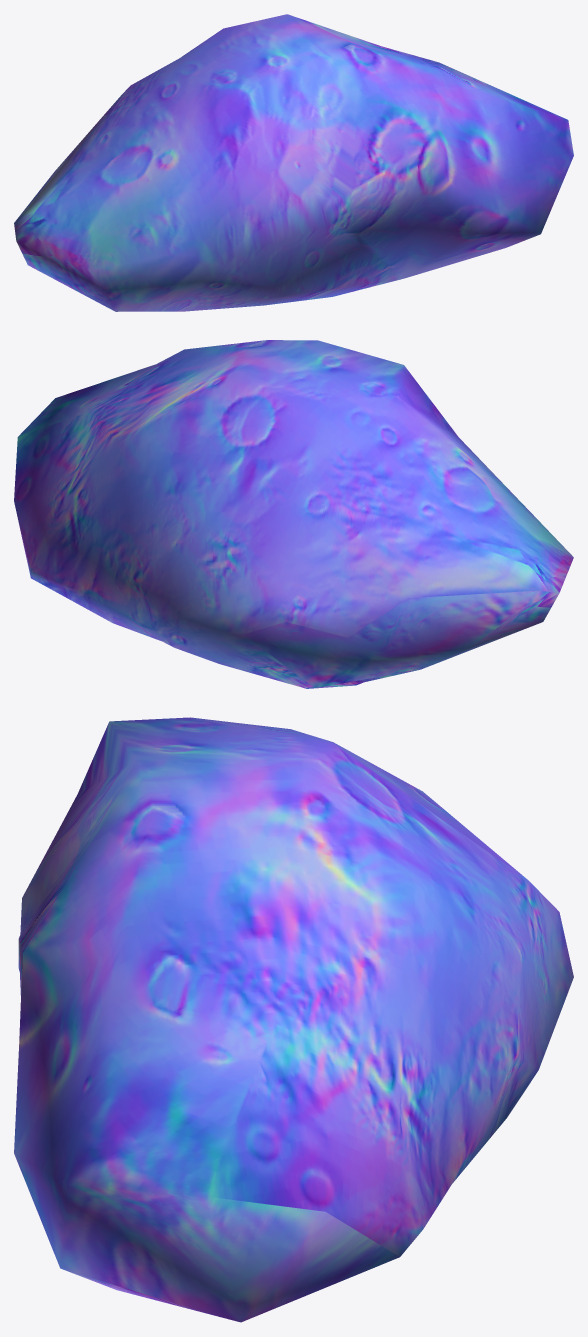
The model's file is Asteroid3.glb.
3 views of the same model, one above another, from view 1: azimuth 30°, elevation 25°; view 2: azimuth 150°, elevation 25°; view 3: azimuth 270°, elevation 25° (orthographic). The views are drawn at different scales.
Parts seen in each view (by area): view 1: Asteroid_03_LOD0; view 2: Asteroid_03_LOD0; view 3: Asteroid_03_LOD0.
Boxes of the visible parts, left/top/right/bottom form: Asteroid_03_LOD0: left=14, top=14, right=573, bottom=311; Asteroid_03_LOD0: left=14, top=340, right=573, bottom=688; Asteroid_03_LOD0: left=14, top=717, right=573, bottom=1322.
Size of what is drawn, in the model's own units: 7.12 by 3.49 by 4.02.
Materials: 1 (1 with a texture image).
